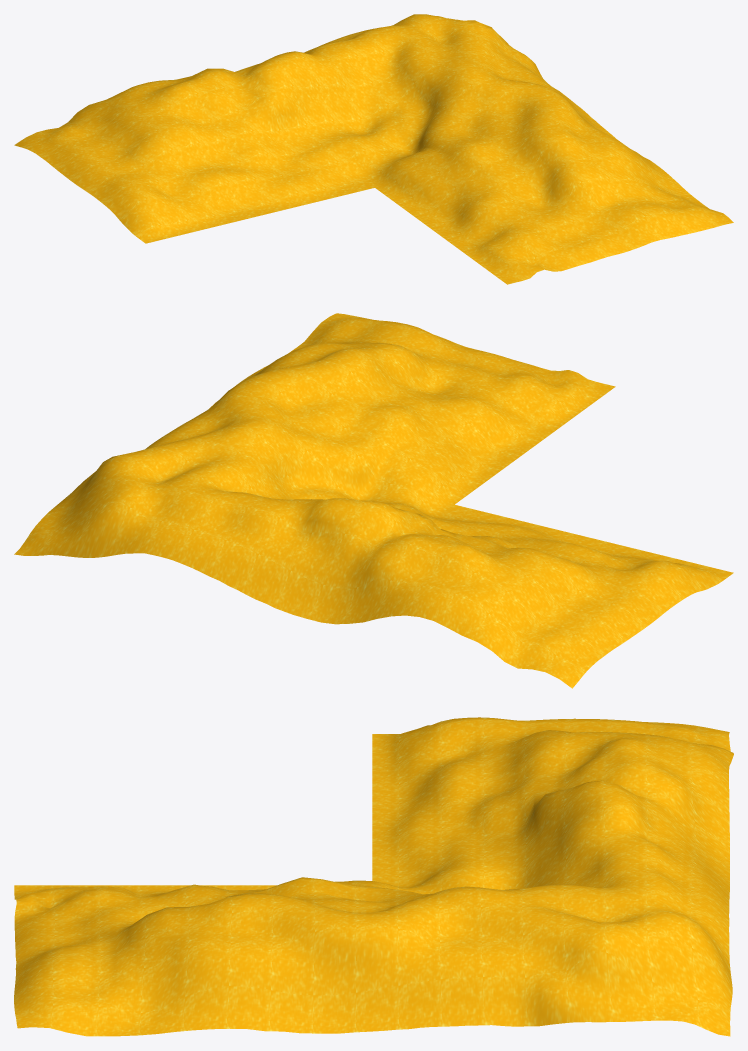
Rendered from des_dunes.obj.
The picture shows the model from 3 angles, top to bottom: view 1: azimuth 30°, elevation 25°; view 2: azimuth 150°, elevation 25°; view 3: azimuth 270°, elevation 25°; orthographic projection. The views are drawn at different scales.
Parts seen in each view (by area): view 1: polySurface1; view 2: polySurface1; view 3: polySurface1.
Boxes of the visible parts, x1,y1,x2,y2 form: polySurface1: [14, 14, 733, 284]; polySurface1: [14, 313, 733, 688]; polySurface1: [14, 717, 733, 1036].
Size of the model in its own units: 2.02 by 0.2785 by 2.01.
